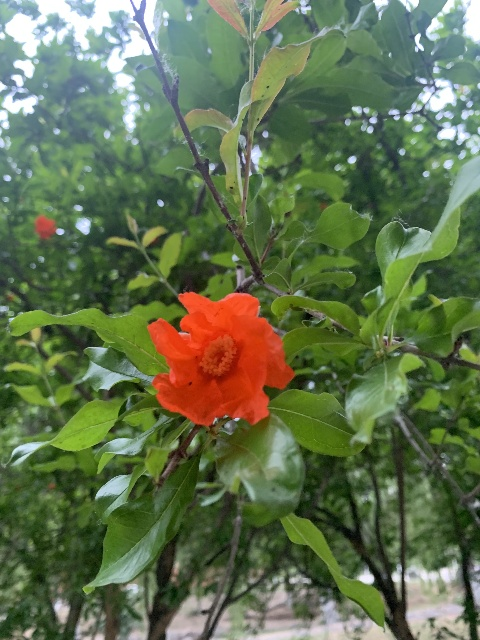flower: (145, 289, 293, 428), (34, 215, 56, 240)
